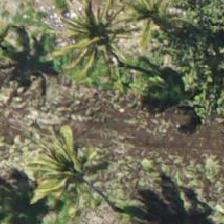coconut_tree: (28, 139, 118, 223), (55, 0, 145, 78), (102, 0, 192, 55)
